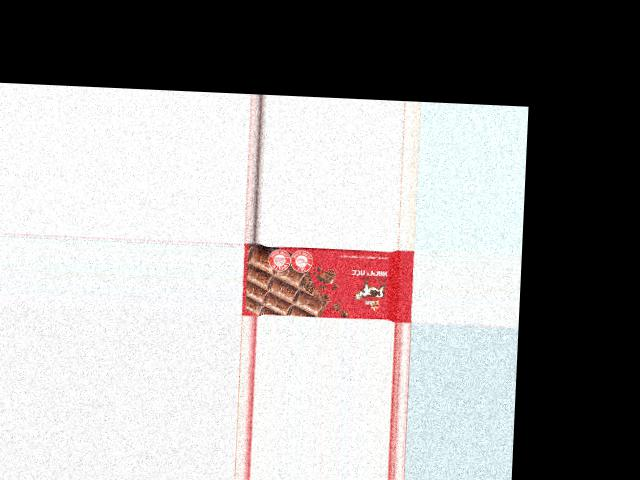chocolate: (243, 243, 415, 322)
